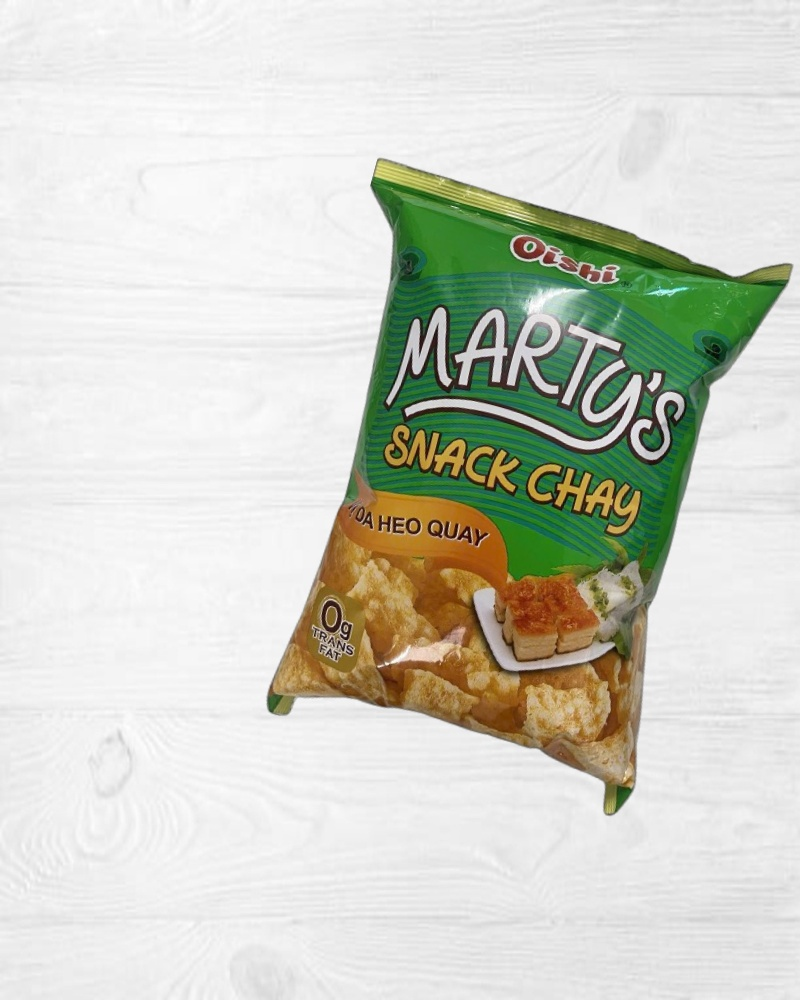Snack chay: (229, 154, 794, 826)
